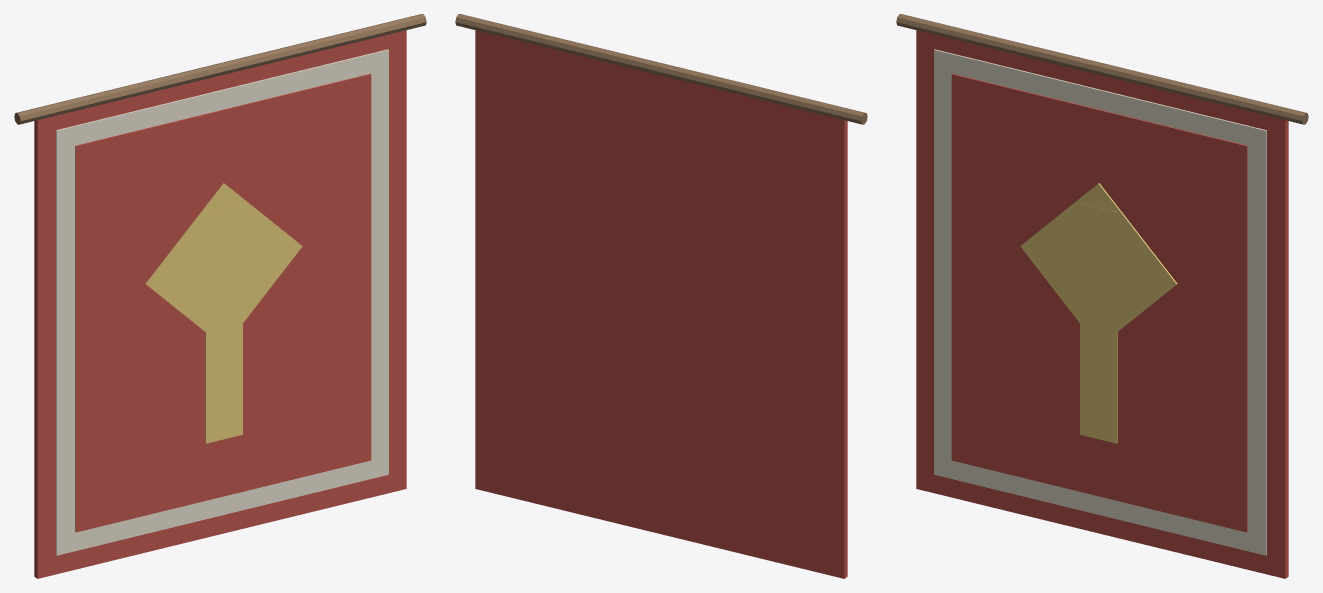
The model's file is tapestry_red.glb.
The picture shows the model from 3 angles, left to right: view 1: azimuth 30°, elevation 25°; view 2: azimuth 150°, elevation 25°; view 3: azimuth 330°, elevation 25°; orthographic projection.
Parts seen in each view (by area): view 1: tapestry_red; view 2: tapestry_red; view 3: tapestry_red.
Boxes of the visible parts, <box> form: tapestry_red: <box>14,14,426,578</box>; tapestry_red: <box>455,14,867,578</box>; tapestry_red: <box>896,14,1308,578</box>.
Bounding box in the file's own units: 2.2 × 2.43 × 0.0685.
